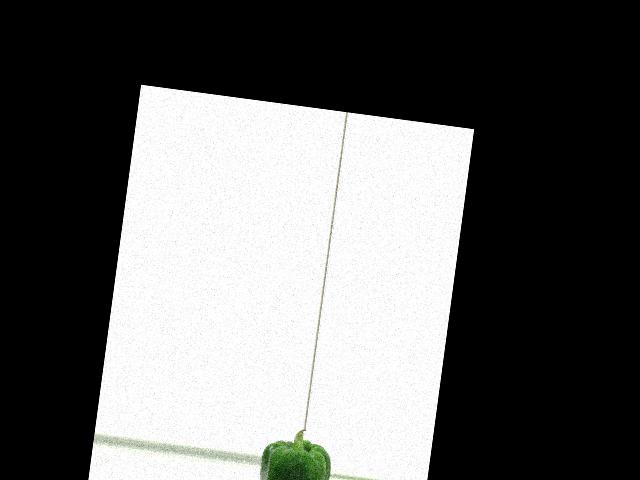bell_pepper: (256, 426, 335, 480)
